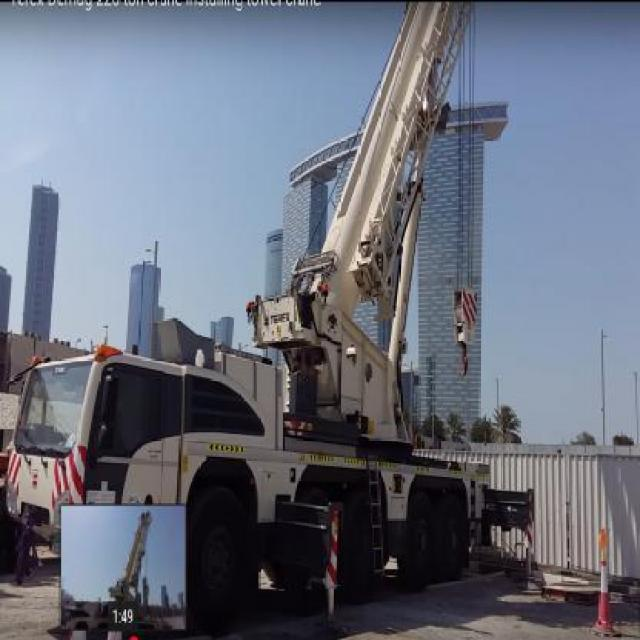Mobile Crane: (0, 0, 540, 620)
